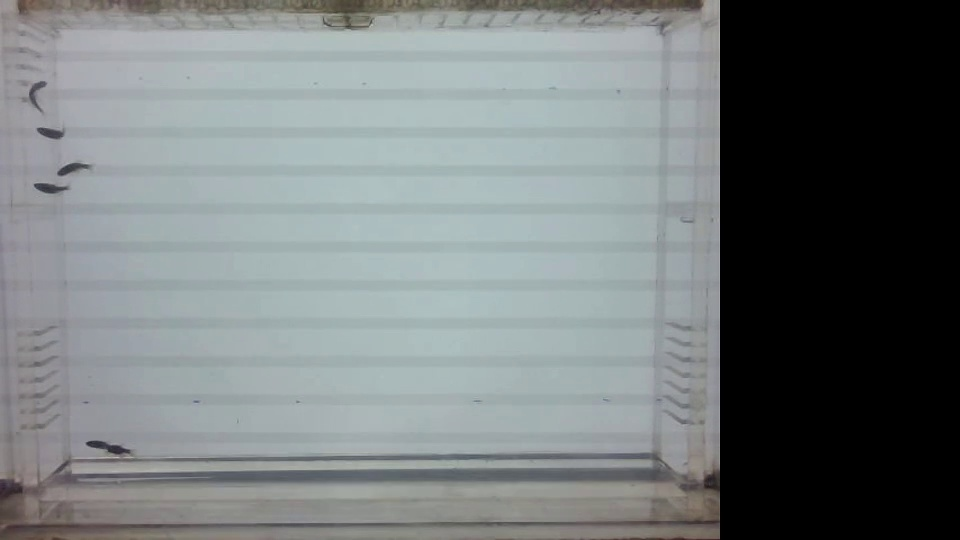fish: (21, 78, 50, 113), (28, 122, 72, 145), (49, 157, 88, 180), (28, 179, 72, 193), (80, 438, 110, 450), (104, 446, 136, 456)
